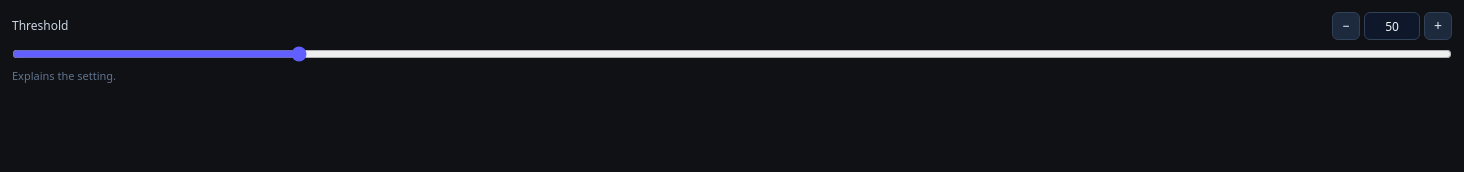
Scenario: NumberSliderField › holds an out-of-range entry while typing, warns, then clamps it when the field loses focus
This screenshot has width=1464, height=172.
Click the field labelled "Threshold": click(1392, 26) x1=1364 y1=12 x2=1420 y2=40
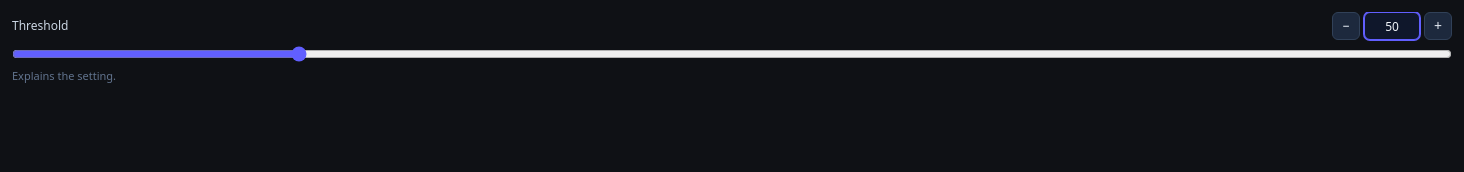
Type keys "999"
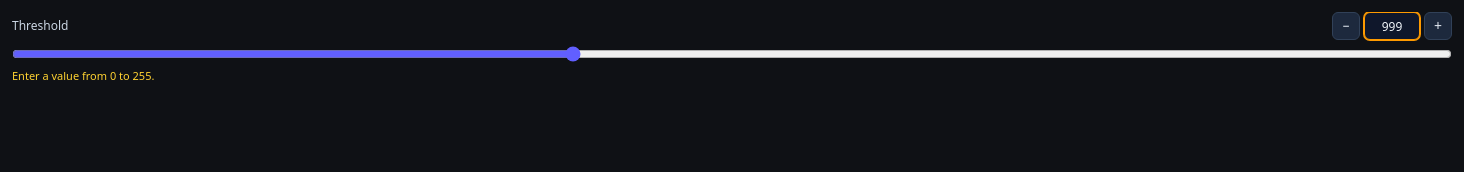
Now the field labelled "Threshold" holds "999", box x1=1364 y1=12 x2=1420 y2=40
Now the text "Enter a value from 0 to 255." is shown, box x1=12 y1=68 x2=154 y2=83
Now the slider named "Threshold slider" holds "99", box x1=12 y1=46 x2=1452 y2=62
Press Tab
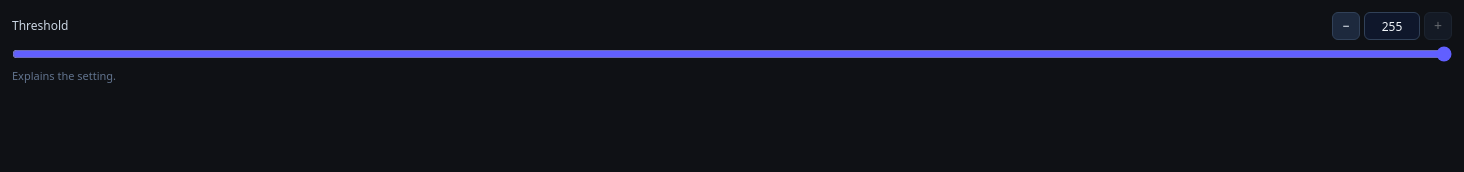
Now the field labelled "Threshold" holds "255", box x1=1364 y1=12 x2=1420 y2=40
Now the slider named "Threshold slider" holds "255", box x1=12 y1=46 x2=1452 y2=62
